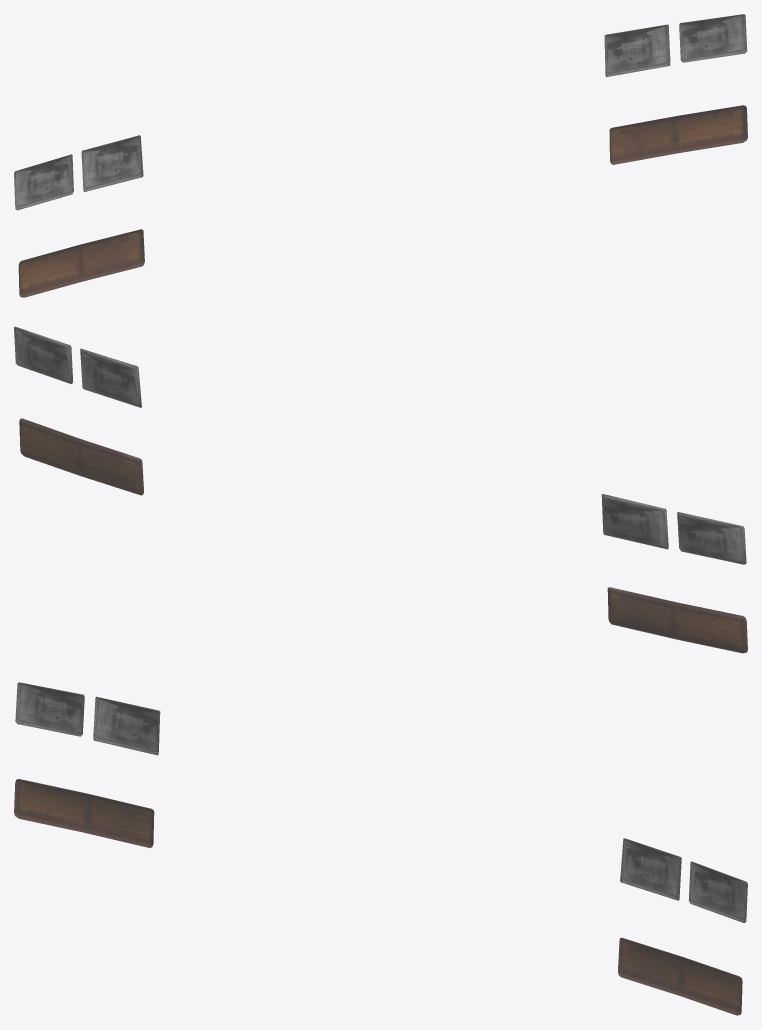
Rendered from shvan92_headlights_glass_ucb_lights_and_glass_transperent_0.002.glb.
3 views of the same model, one above another, from view 1: azimuth 30°, elevation 25°; view 2: azimuth 150°, elevation 25°; view 3: azimuth 330°, elevation 25° (orthographic). The views are drawn at different scales.
Parts seen in each view (by area): view 1: shvan92_headlights_glass_ucb_lights_and_glass_transperent_0.; view 2: shvan92_headlights_glass_ucb_lights_and_glass_transperent_0.; view 3: shvan92_headlights_glass_ucb_lights_and_glass_transperent_0..
Boxes of the visible parts, x1=… form: shvan92_headlights_glass_ucb_lights_and_glass_transperent_0.: x1=14, y1=14, x2=747, y2=297; shvan92_headlights_glass_ucb_lights_and_glass_transperent_0.: x1=14, y1=326, x2=747, y2=653; shvan92_headlights_glass_ucb_lights_and_glass_transperent_0.: x1=14, y1=682, x2=747, y2=1015.
Size of the model in its own units: 1.62 by 0.2763 by 0.1224.
Materials: 1 (1 with a texture image).
